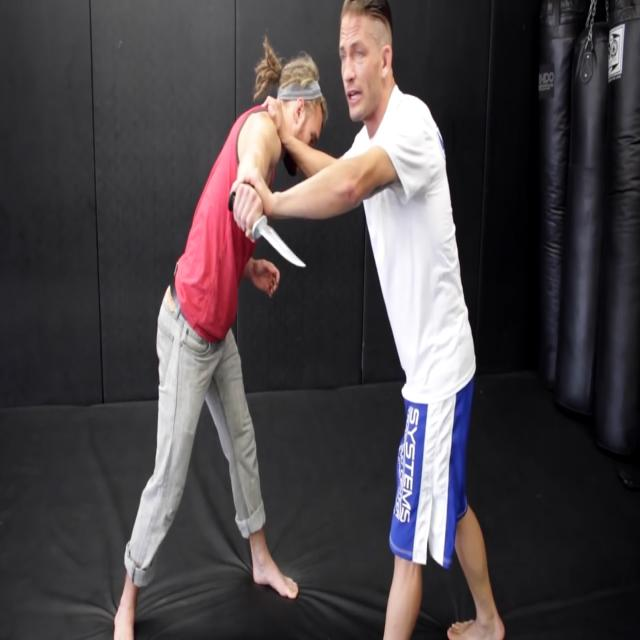knife: (259, 218, 307, 279)
